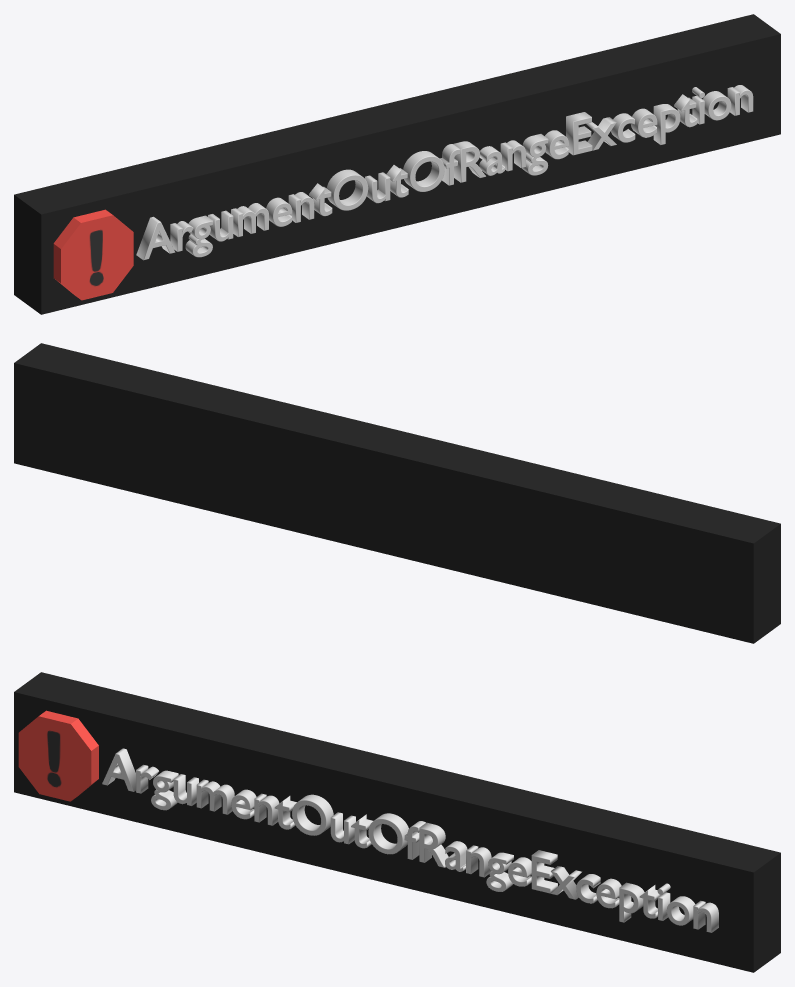
The model's file is ArgumentOutOfRangeException1.fbx.
The picture shows the model from 3 angles, top to bottom: view 1: azimuth 30°, elevation 25°; view 2: azimuth 150°, elevation 25°; view 3: azimuth 330°, elevation 25°; orthographic projection.
Visible parts, largest first — view 1: nooo2.004, ArgumentOutOfRangeException.001; view 2: nooo2.004; view 3: nooo2.004, ArgumentOutOfRangeException.001.
Part boxes in pixels (bbox=[...]): nooo2.004: bbox=[14, 14, 780, 314]; ArgumentOutOfRangeException.001: bbox=[136, 85, 753, 260]; nooo2.004: bbox=[14, 343, 780, 643]; nooo2.004: bbox=[14, 672, 780, 972]; ArgumentOutOfRangeException.001: bbox=[102, 748, 718, 932].
Size of the model in its own units: 3048 by 395 by 249.
